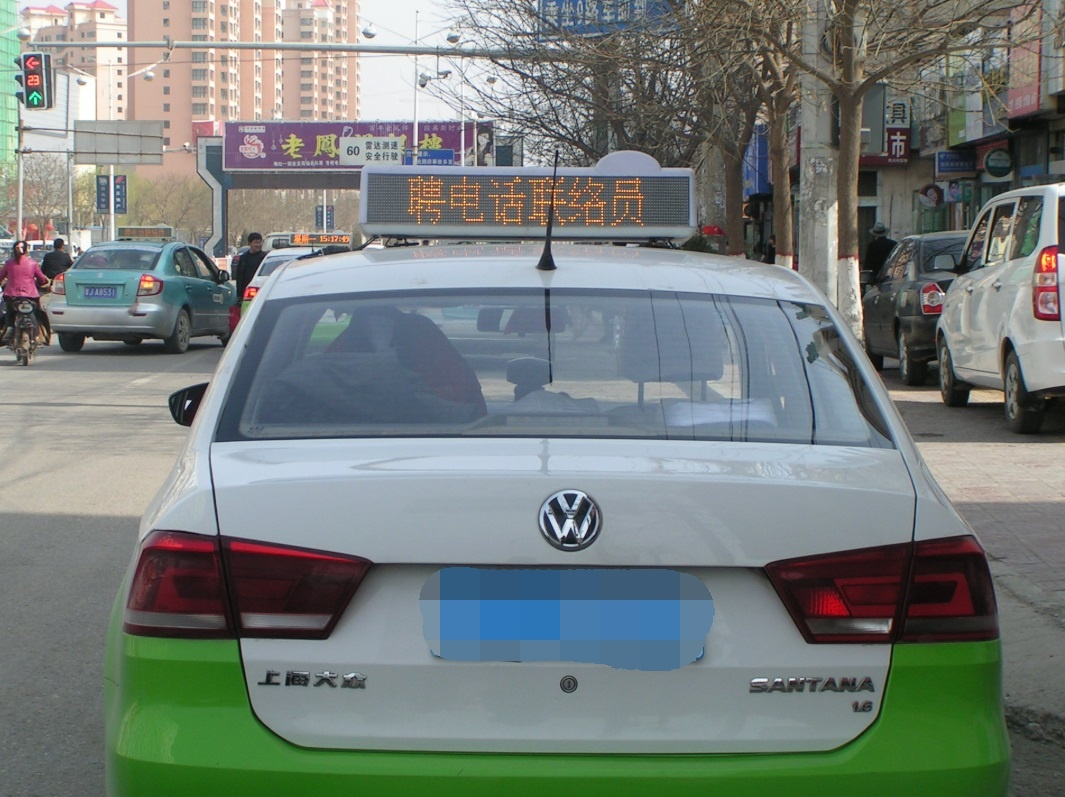taxi: (108, 134, 1015, 797)
